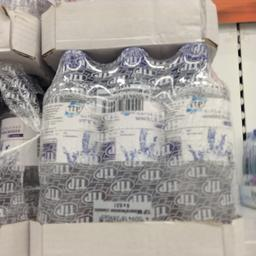water: (166, 42, 236, 220), (102, 44, 170, 220), (38, 49, 103, 222)
